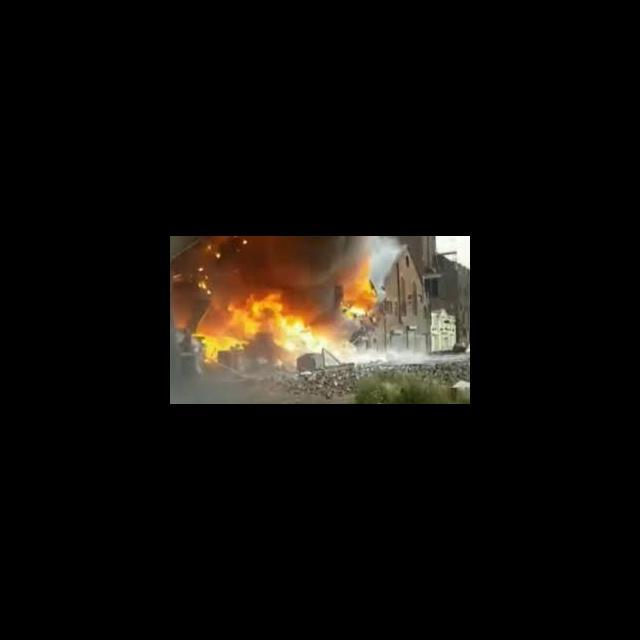Fire: (191, 289, 326, 368), (338, 256, 376, 316)
Smoke: (172, 238, 334, 290), (336, 350, 428, 368), (376, 239, 402, 283)
